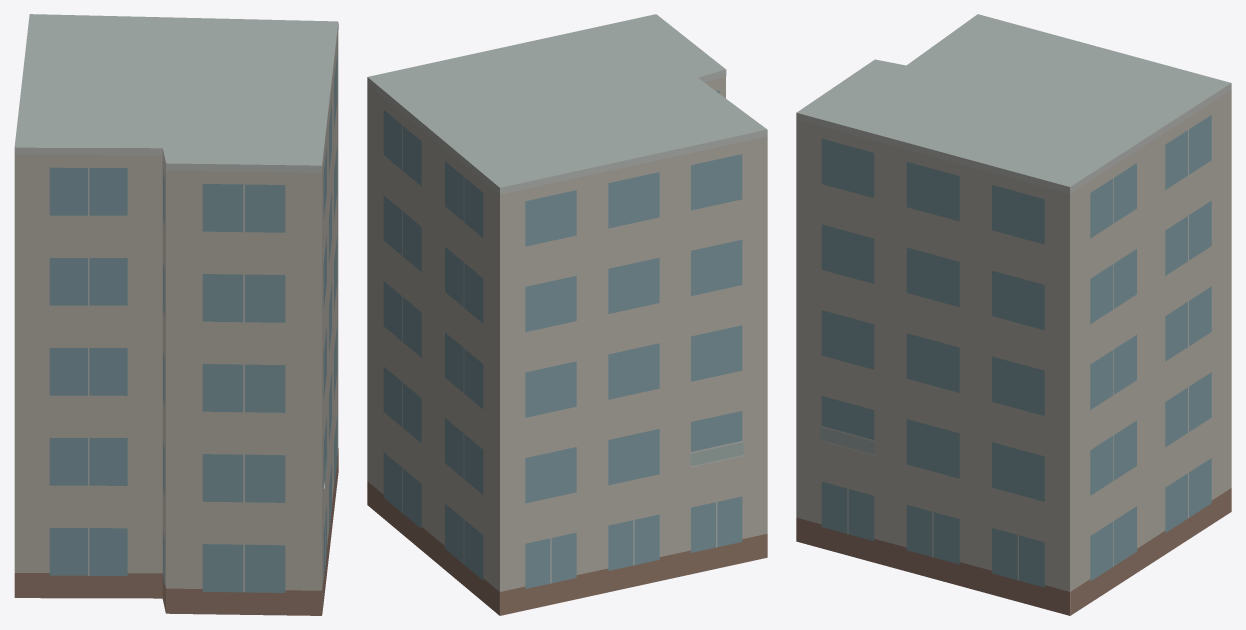
The model's file is survey-upis-32942992.glb.
3 renders of one model, left to right at view 1: azimuth 30°, elevation 25°; view 2: azimuth 150°, elevation 25°; view 3: azimuth 270°, elevation 25°, orthographic. The views are drawn at different scales.
Parts seen in each view (by area): view 1: survey-upis-32942992.tmp; view 2: survey-upis-32942992.tmp; view 3: survey-upis-32942992.tmp.
Boxes of the visible parts, x1,y1,x2,y2 form: survey-upis-32942992.tmp: [14, 14, 338, 615]; survey-upis-32942992.tmp: [367, 14, 767, 615]; survey-upis-32942992.tmp: [796, 14, 1231, 615].
Size of the model in its own units: 13.25 by 15.3 by 14.08.
